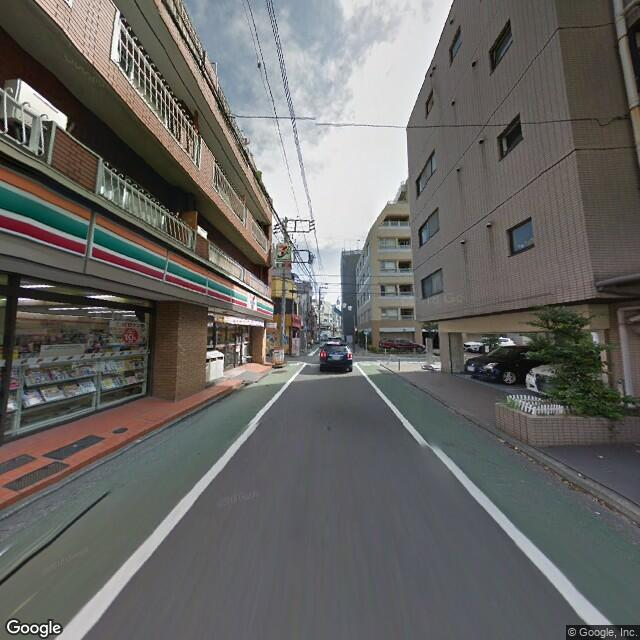7-eleven: (1, 161, 273, 321), (273, 242, 292, 263)
